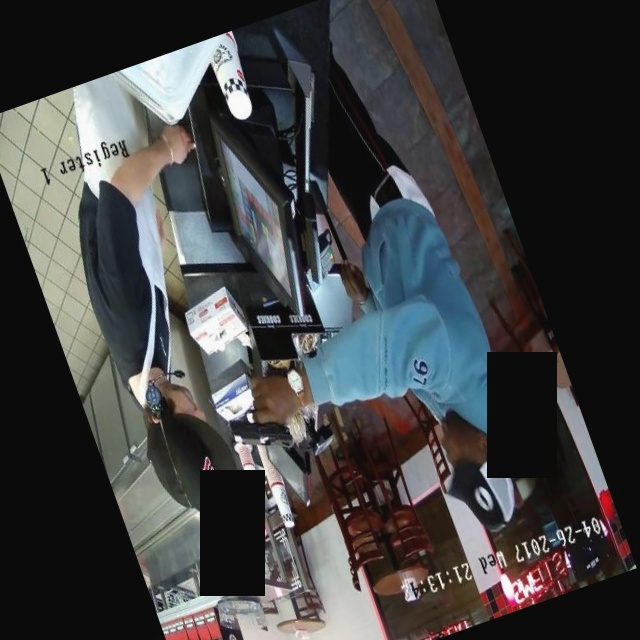gun: (217, 384, 309, 478)
